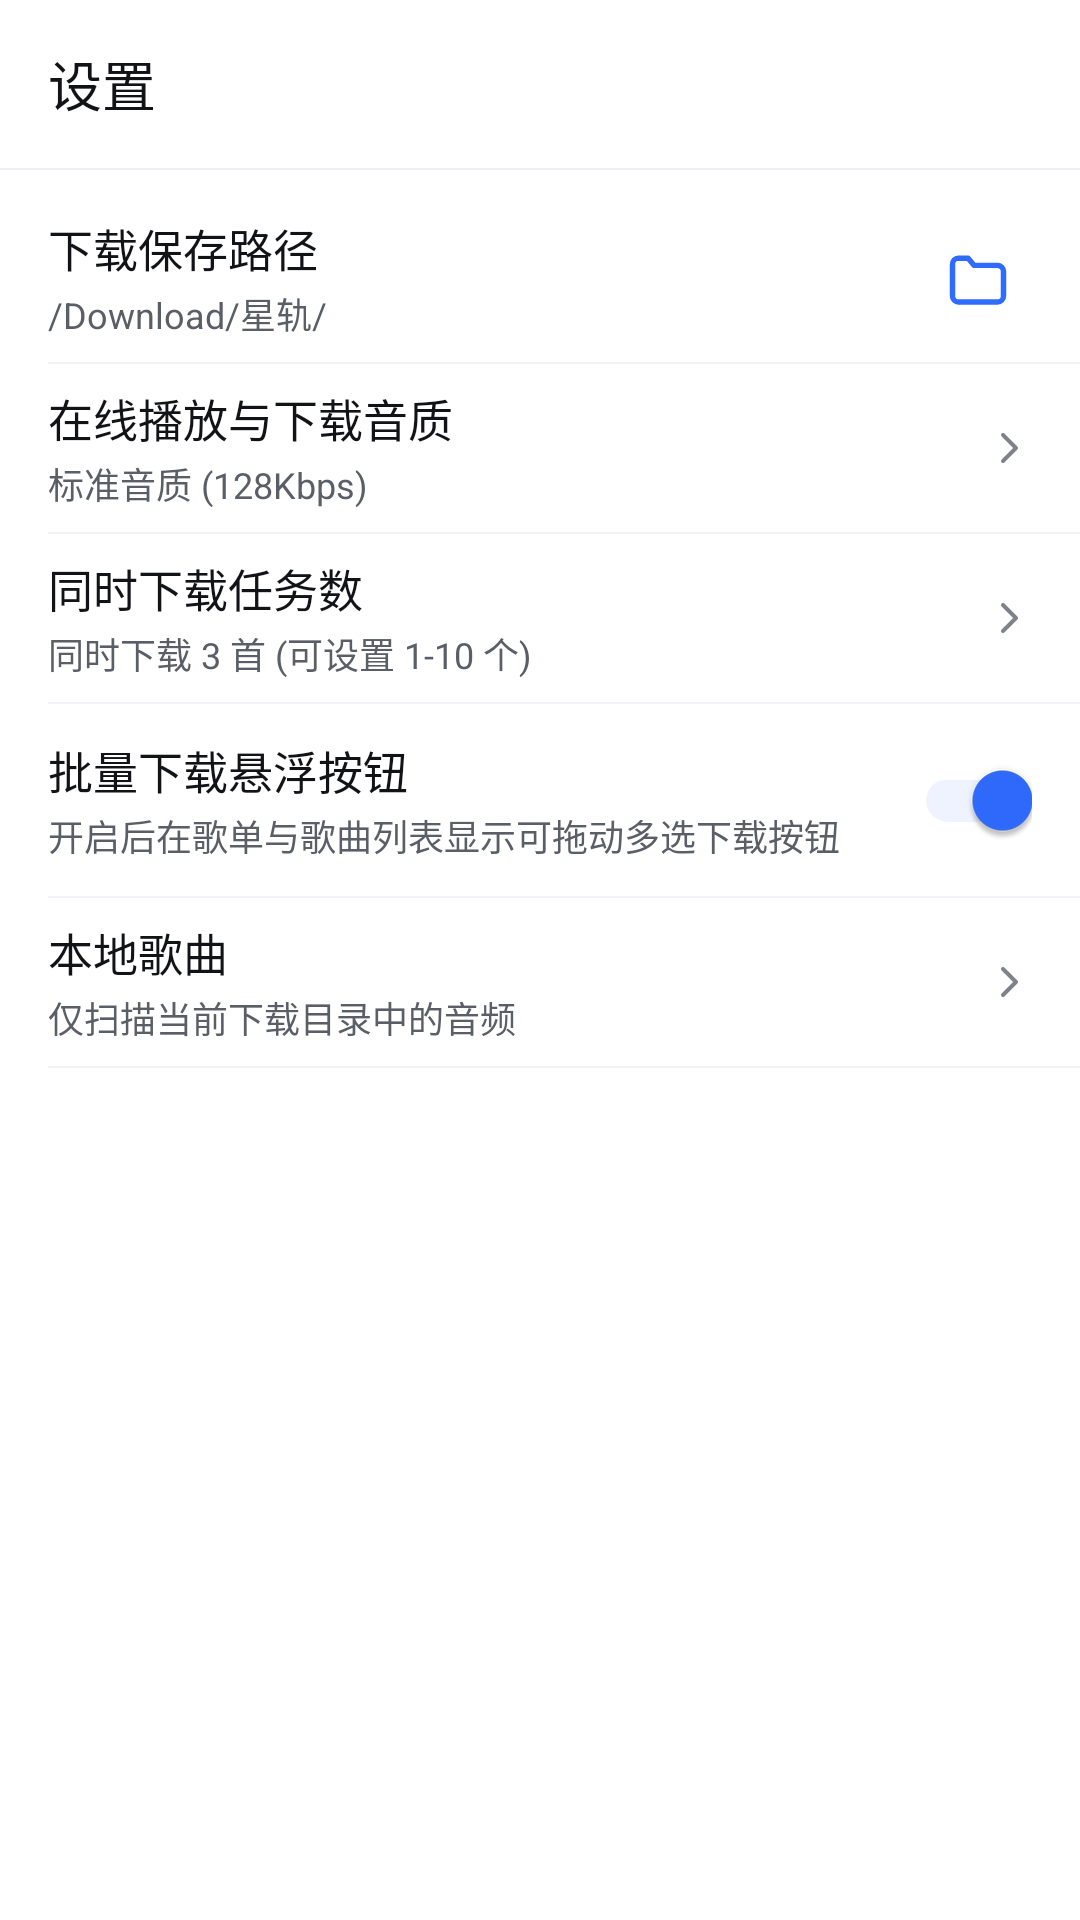

Screen size 1080px×1920px. Icon name, then its box in pixels as (x1, y1, x2, y2):
chevron right: (1001, 433, 1018, 463), (1001, 603, 1018, 633), (1001, 967, 1018, 997)
func folder: (949, 255, 1007, 305)
